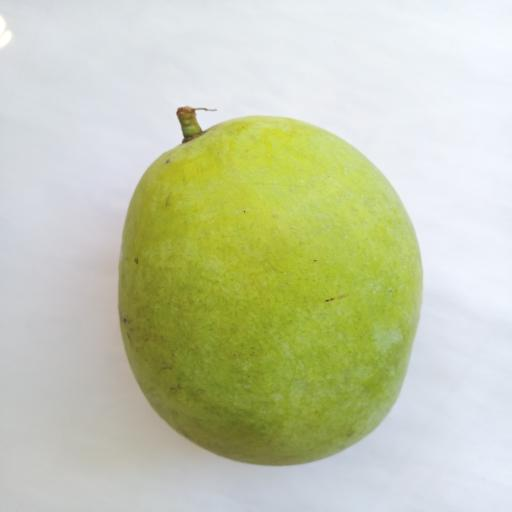mango-unripe: (106, 88, 426, 478)
